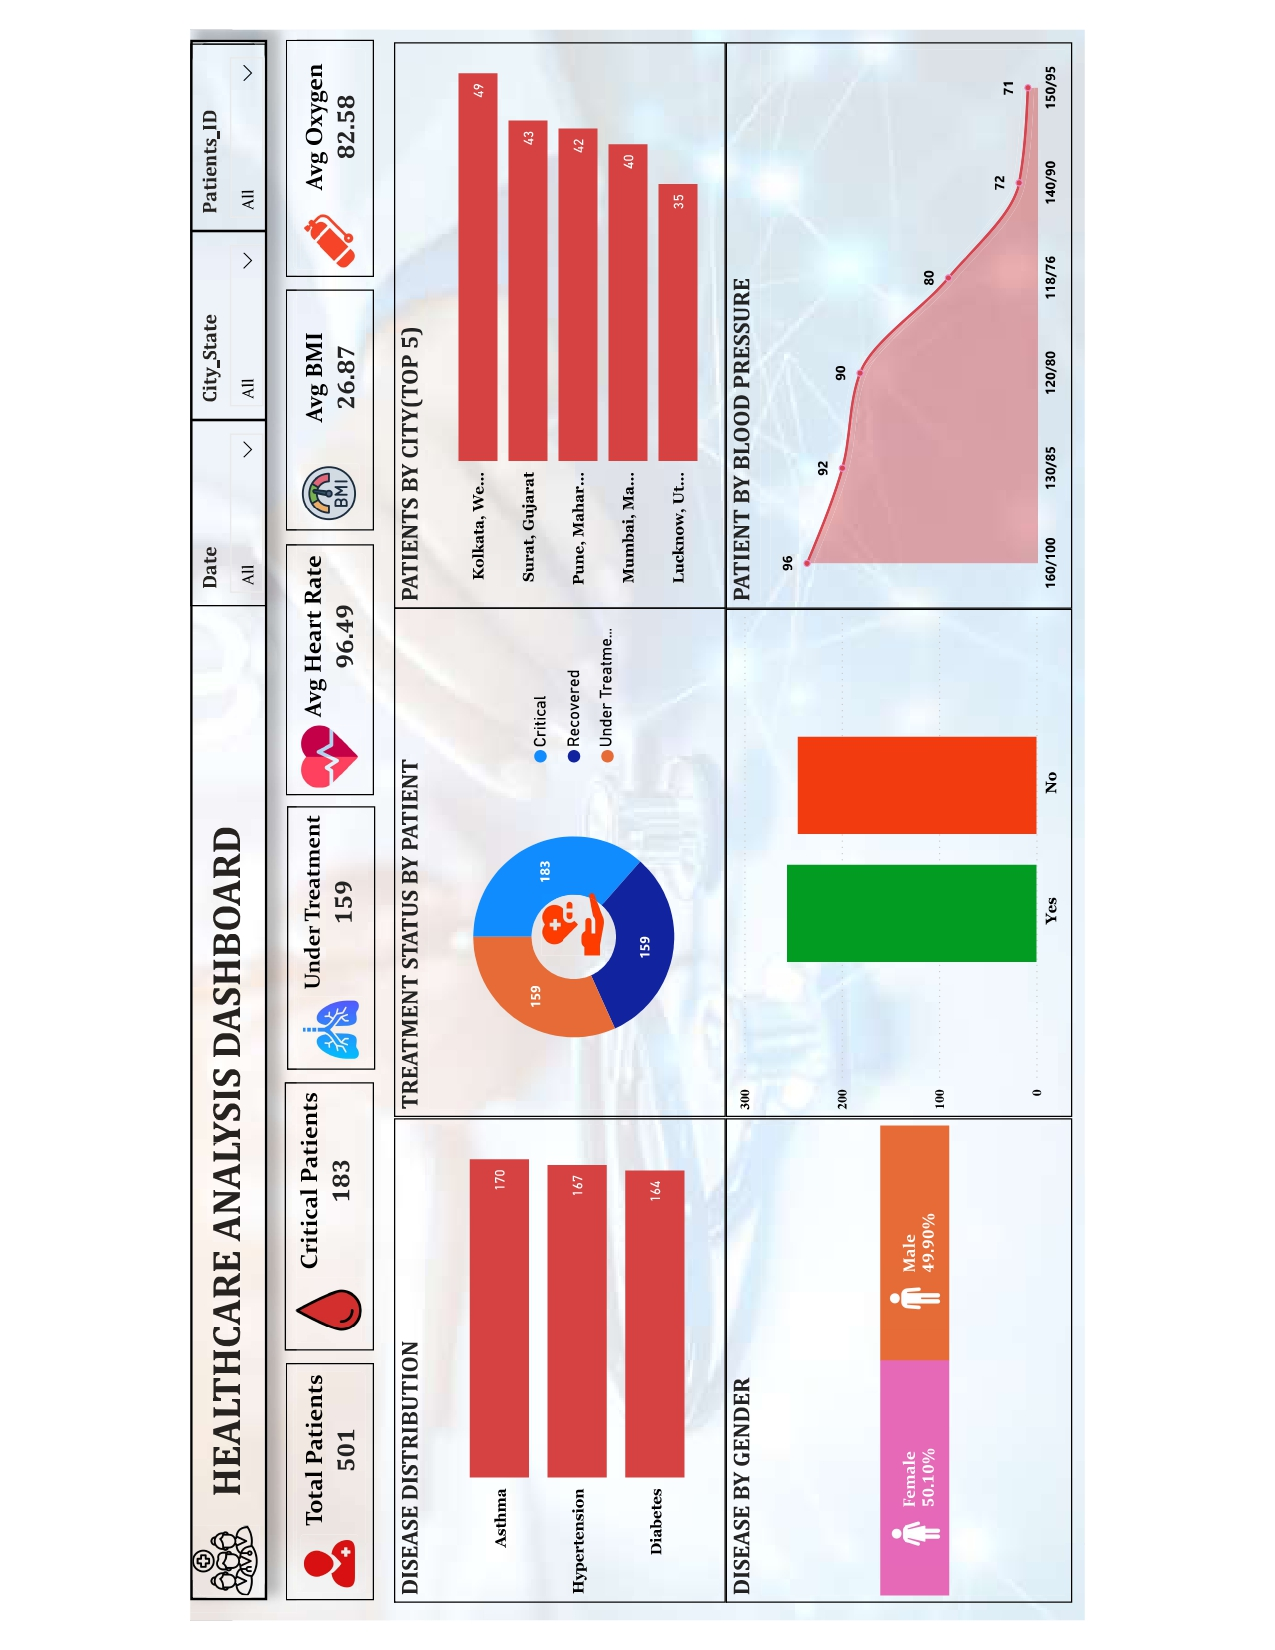

The dashboard page shown, as its layout file describes it:
{"tool":"powerbi","page":{"name":"Page 1","canvas":[1280,720],"ordinal":0},"visuals":[{"type":"cardVisual","fields":{"Data":["HEALTHACARE_DATA.Total Patients"]},"box":[15.9,77,190.8,70.9],"z":0},{"type":"cardVisual","fields":{"Data":["HEALTHACARE_DATA.Critical Patients"]},"box":[216.7,75.8,215.8,71.7],"z":1000},{"type":"cardVisual","fields":{"Data":["HEALTHACARE_DATA.Average BMI"]},"box":[876.8,77,194.4,70.9],"z":2000},{"type":"cardVisual","fields":{"Data":["HEALTHACARE_DATA.Under Treatment"]},"box":[442.5,77.5,212.5,71.2],"z":3000},{"type":"cardVisual","fields":{"Data":["HEALTHACARE_DATA.Average Heart Rate"]},"box":[664,77,201.8,70.9],"z":4000},{"type":"cardVisual","fields":{"Data":["HEALTHACARE_DATA.Average Oxygen"]},"box":[1081,77,190.8,70.9],"z":5000},{"type":"clusteredBarChart","title":"DISEASE DISTRIBUTION","fields":{"Y":["CountNonNull(HEALTHACARE_DATA.Patients_ID)"],"Category":["HEALTHACARE_DATA.Disease"]},"box":[14.4,163.9,390,267.1],"z":6000,"group":"g1"},{"type":"barChart","title":"PATIENTS BY CITY(TOP 5)","fields":{"Y":["CountNonNull(HEALTHACARE_DATA.Patients_ID)"],"Category":["HEALTHACARE_DATA.City_State"]},"box":[814.3,164.5,456.1,266.6],"z":6000},{"type":"group","id":"g1","title":"Group 1","box":[14.4,163.9,390,267.1],"z":7000},{"type":"donutChart","title":"TREATMENT STATUS BY PATIENT","fields":{"Category":["HEALTHACARE_DATA.Status"],"Y":["CountNonNull(HEALTHACARE_DATA.Patients_ID)"]},"box":[404.7,164.5,409.6,266.6],"z":7000,"group":"g3"},{"type":"group","id":"g2","title":"Group 2","box":[14.4,431.1,390,278.6],"z":8000},{"type":"hundredPercentStackedBarChart","title":"DISEASE BY GENDER","fields":{"Series":["HEALTHACARE_DATA.Gender"],"Y":["CountNonNull(HEALTHACARE_DATA.Disease)"]},"box":[14.4,431.1,390,278.6],"z":8000,"group":"g2"},{"type":"lineChart","title":"PATIENT BY BLOOD PRESSURE","fields":{"Y":["CountNonNull(HEALTHACARE_DATA.Patients_Name)"],"Category":["HEALTHACARE_DATA.Blood_Pressure"]},"box":[814.3,431.1,456.1,278.8],"z":9000},{"type":"image","box":[524.9,284,68.9,49.9],"z":10000,"group":"g3"},{"type":"columnChart","fields":{"Y":["CountNonNull(HEALTHACARE_DATA.Patients_ID)"],"Category":["HEALTHACARE_DATA.Smooking"]},"box":[404.7,431.1,409.6,278.8],"z":10000},{"type":"textbox","box":[15.9,0,633.4,56.3],"z":11000},{"type":"image","box":[0,0,95,55.8],"z":12000},{"type":"slicer","fields":{"Values":["HEALTHACARE_DATA.Date"]},"box":[815.6,0,150.4,61.1],"z":13000},{"type":"slicer","fields":{"Values":["HEALTHACARE_DATA.City_State"]},"box":[966,0,151.6,61.1],"z":14000},{"type":"slicer","fields":{"Values":["HEALTHACARE_DATA.Patients_ID"]},"box":[1117.7,0,151.6,61.1],"z":15000},{"type":"group","id":"g3","title":"Group 3","box":[404.7,164.5,409.6,266.6],"z":16000},{"type":"image","box":[225.4,558,67.8,50.6],"z":17000},{"type":"image","box":[36.5,558.5,67.8,50.6],"z":18000},{"type":"shape","box":[15.9,0,1255.8,62.4],"z":19000}]}

Visuals, with their boxes on the page's 1280x720 design canvas (x1, y1, x2, y2). These are canvas units, not pixel positions in the 1275x1650 screenshot, which may show the page scaled, cropped or inside an application window:
cardVisual - HEALTHACARE_DATA.Total Patients: [left=16, top=77, right=207, bottom=148]
cardVisual - HEALTHACARE_DATA.Critical Patients: [left=217, top=76, right=432, bottom=148]
cardVisual - HEALTHACARE_DATA.Average BMI: [left=877, top=77, right=1071, bottom=148]
cardVisual - HEALTHACARE_DATA.Under Treatment: [left=442, top=78, right=655, bottom=149]
cardVisual - HEALTHACARE_DATA.Average Heart Rate: [left=664, top=77, right=866, bottom=148]
cardVisual - HEALTHACARE_DATA.Average Oxygen: [left=1081, top=77, right=1272, bottom=148]
"DISEASE DISTRIBUTION" clusteredBarChart: [left=14, top=164, right=404, bottom=431]
"PATIENTS BY CITY(TOP 5)" barChart: [left=814, top=164, right=1270, bottom=431]
"Group 1" group: [left=14, top=164, right=404, bottom=431]
"TREATMENT STATUS BY PATIENT" donutChart: [left=405, top=164, right=814, bottom=431]
"Group 2" group: [left=14, top=431, right=404, bottom=710]
"DISEASE BY GENDER" hundredPercentStackedBarChart: [left=14, top=431, right=404, bottom=710]
"PATIENT BY BLOOD PRESSURE" lineChart: [left=814, top=431, right=1270, bottom=710]
image: [left=525, top=284, right=594, bottom=334]
columnChart - CountNonNull(HEALTHACARE_DATA.Patients_ID) x HEALTHACARE_DATA.Smooking: [left=405, top=431, right=814, bottom=710]
textbox: [left=16, top=0, right=649, bottom=56]
image: [left=0, top=0, right=95, bottom=56]
slicer - HEALTHACARE_DATA.Date: [left=816, top=0, right=966, bottom=61]
slicer - HEALTHACARE_DATA.City_State: [left=966, top=0, right=1118, bottom=61]
slicer - HEALTHACARE_DATA.Patients_ID: [left=1118, top=0, right=1269, bottom=61]
"Group 3" group: [left=405, top=164, right=814, bottom=431]
image: [left=225, top=558, right=293, bottom=609]
image: [left=36, top=558, right=104, bottom=609]
shape: [left=16, top=0, right=1272, bottom=62]
